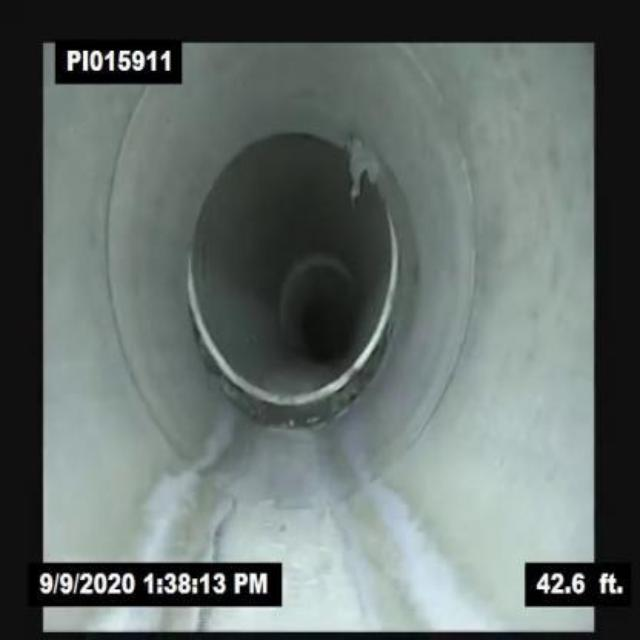Joint offset: (208, 383, 371, 435), (186, 251, 237, 378), (357, 269, 408, 382)
